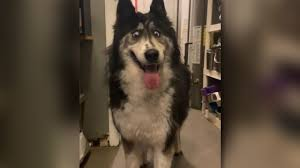Siberian Husky: (88, 3, 201, 159)
